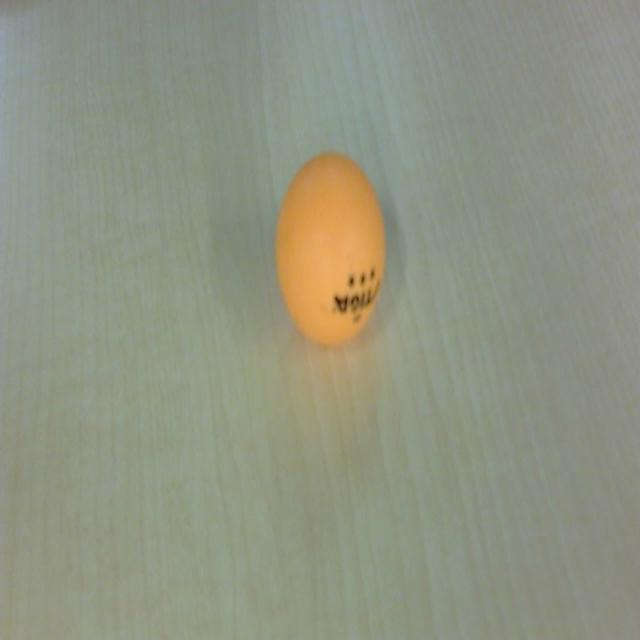ball: (273, 153, 388, 353)
